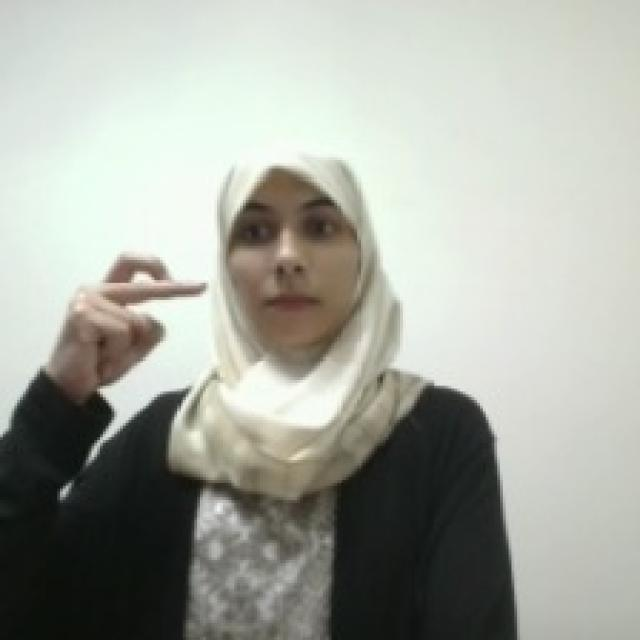sunday: (50, 241, 214, 391)
